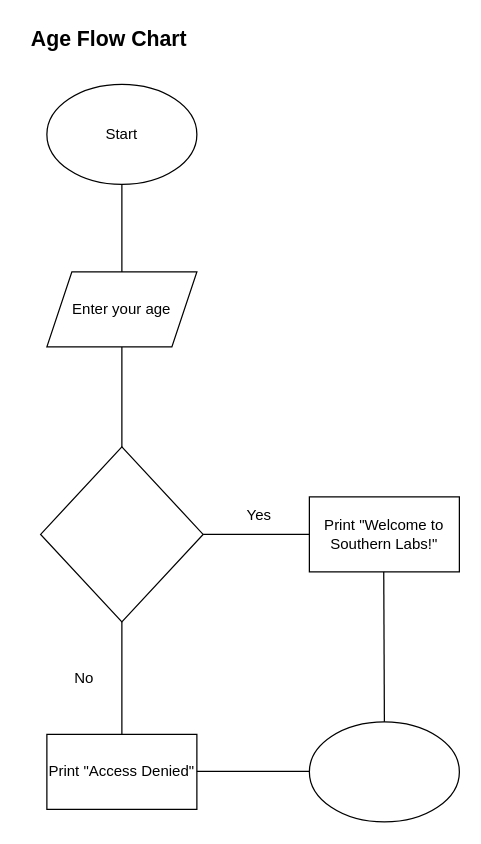
The diagram is 481 pixels wide and 844 high, and some of its shapes have lost their labels. The shapes that lost their labels are listed below. From the top down, each one's centre as x and y in pixels, then its label:
(121,534): Is age greater of equals to 18?
(383,771): END
